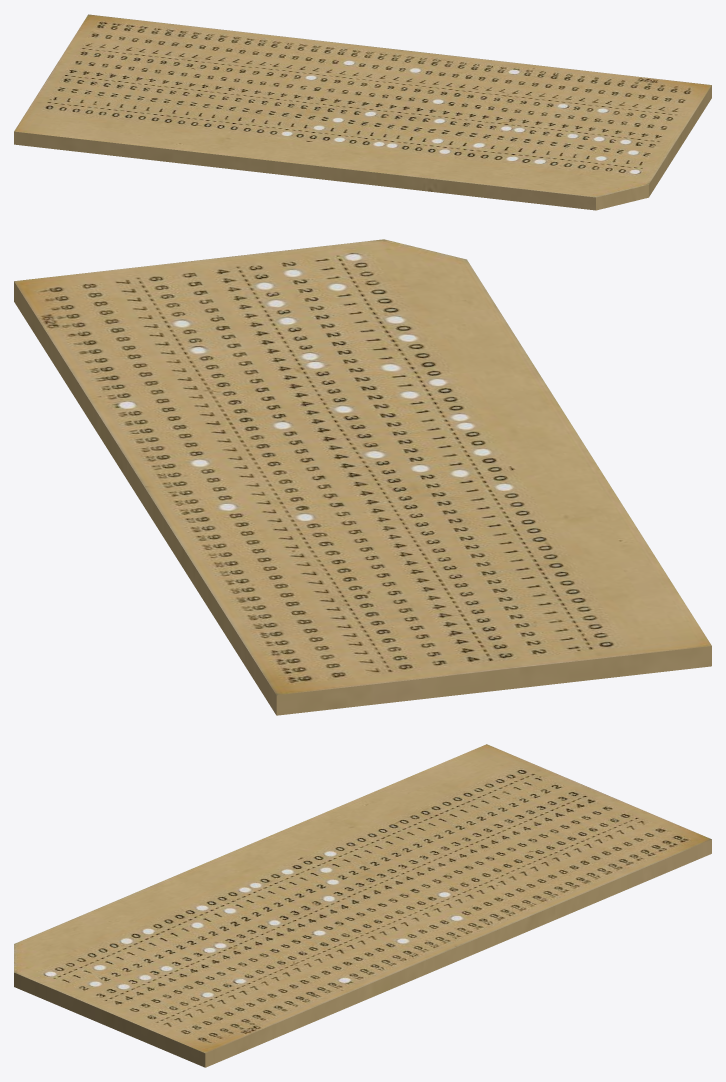
3 views of the same model, one above another, from view 1: azimuth 30°, elevation 25°; view 2: azimuth 150°, elevation 25°; view 3: azimuth 270°, elevation 25° (orthographic). The views are drawn at different scales.
Visible parts, largest first — view 1: Mass Element <Standard> Body; view 2: Mass Element <Standard> Body; view 3: Mass Element <Standard> Body.
Boxes of the visible parts, box(x1,y1,x2,y2) form: Mass Element <Standard> Body: box(14, 14, 711, 210); Mass Element <Standard> Body: box(14, 239, 711, 715); Mass Element <Standard> Body: box(14, 744, 711, 1067).
Bounding box in the file's own units: 0.2298 × 0.005 × 0.2192.
1 material, 1 textured.
